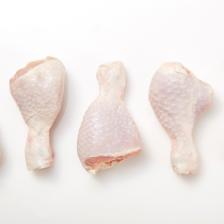chicken: (76, 60, 143, 176), (148, 61, 214, 176), (8, 54, 66, 172)
